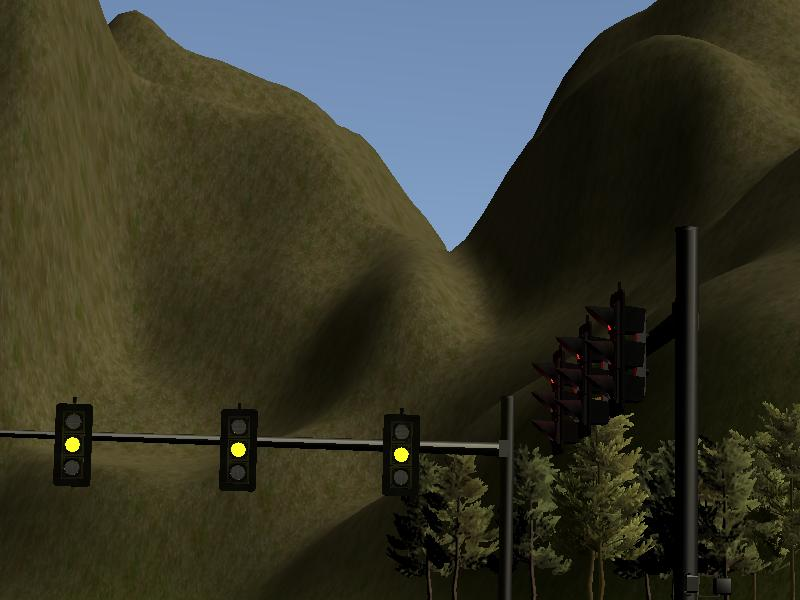yellow: (53, 405, 92, 484), (218, 409, 257, 488), (382, 416, 421, 495)
